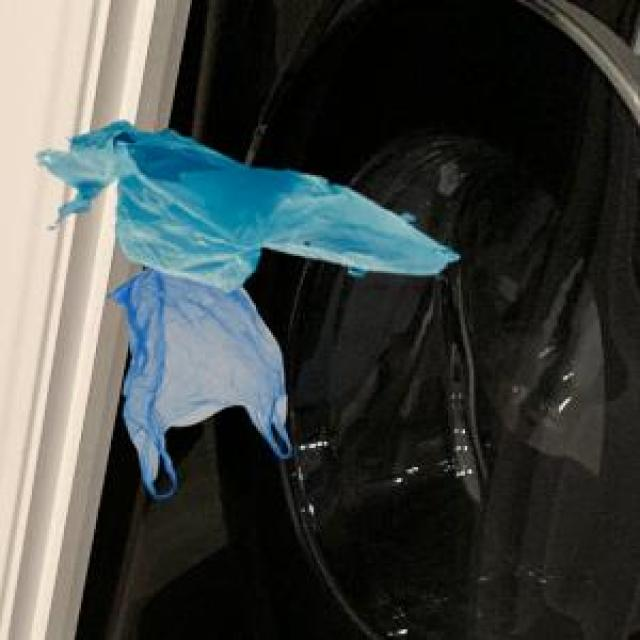plastic: (30, 96, 498, 502)
